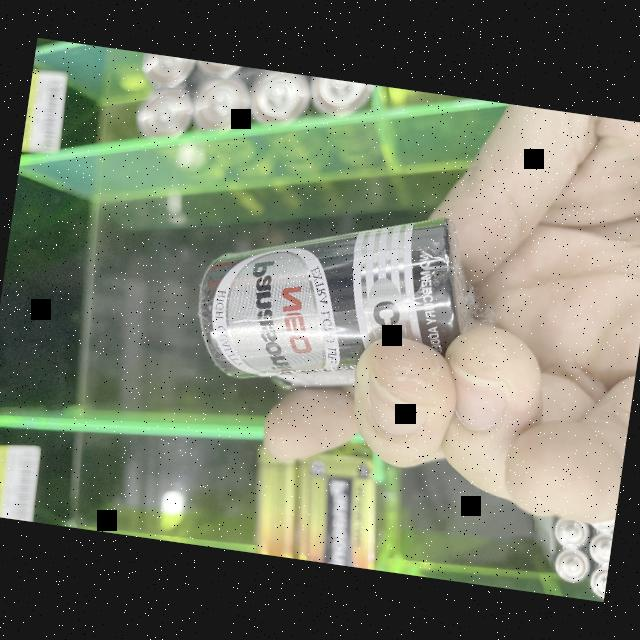battery: (183, 185, 485, 397), (106, 50, 409, 213), (215, 435, 406, 572), (515, 486, 618, 600)
